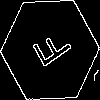F: (25, 25, 73, 75)
